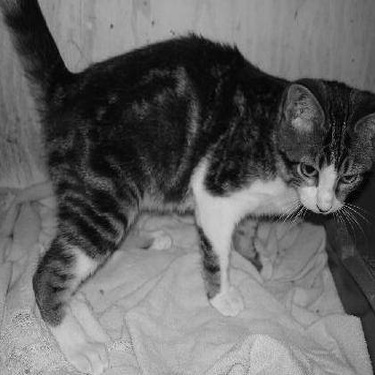cat: (6, 3, 366, 326)
